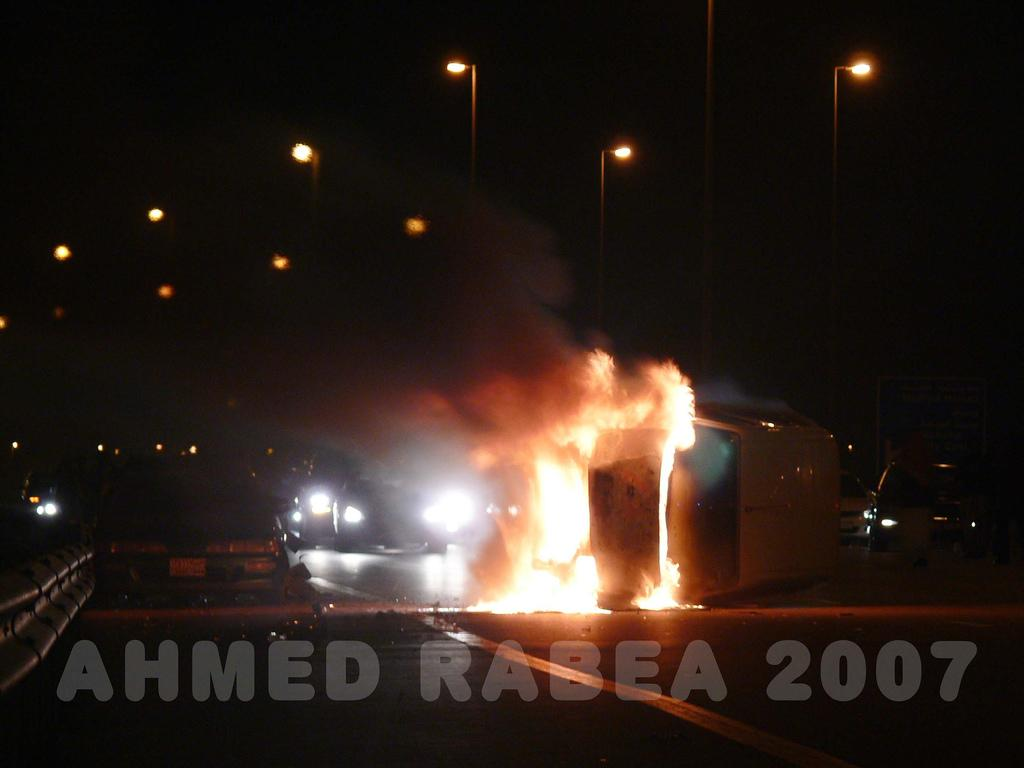fire: (514, 402, 588, 598), (648, 356, 706, 446)
